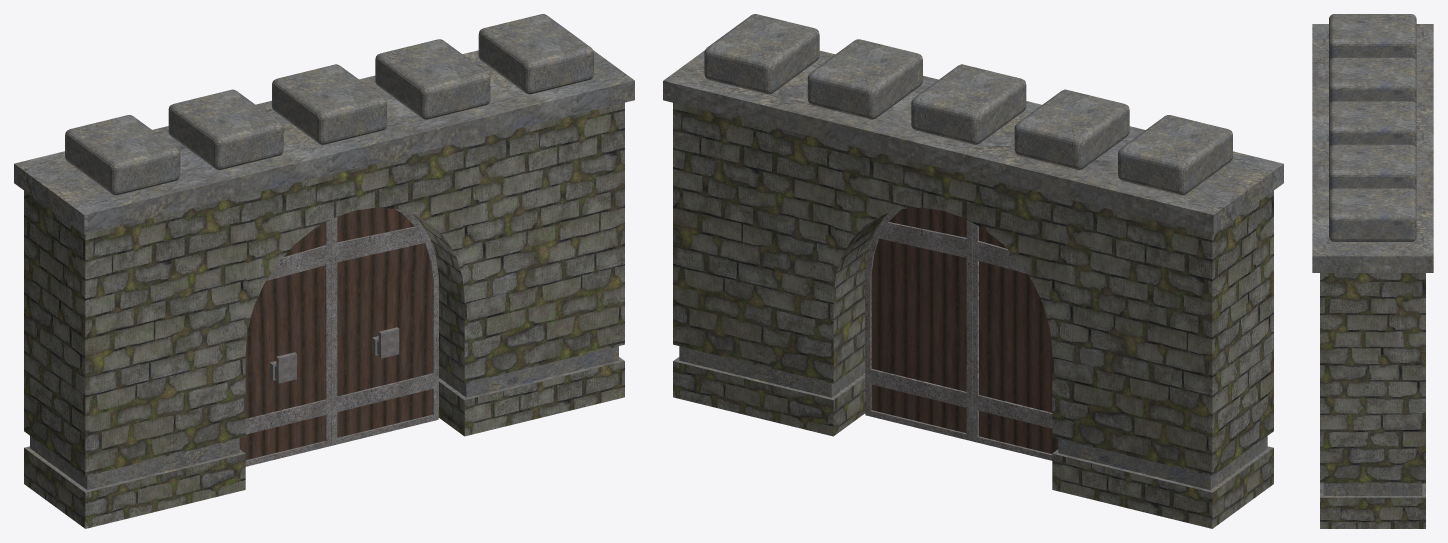
Rendered from Combined_DEC539CE.glb.
3 renders of one model, left to right at view 1: azimuth 30°, elevation 25°; view 2: azimuth 150°, elevation 25°; view 3: azimuth 270°, elevation 25°, orthographic. The views are drawn at different scales.
Visible parts, largest first — view 1: Combined_DEC539CE; view 2: Combined_DEC539CE; view 3: Combined_DEC539CE.
Boxes of the visible parts, <box> form: Combined_DEC539CE: <box>14,14,634,528</box>; Combined_DEC539CE: <box>663,14,1283,528</box>; Combined_DEC539CE: <box>1312,14,1433,528</box>.
Bounding box in the file's own units: 7.93 × 4.83 × 1.75.
Materials: 2 (2 with a texture image).
